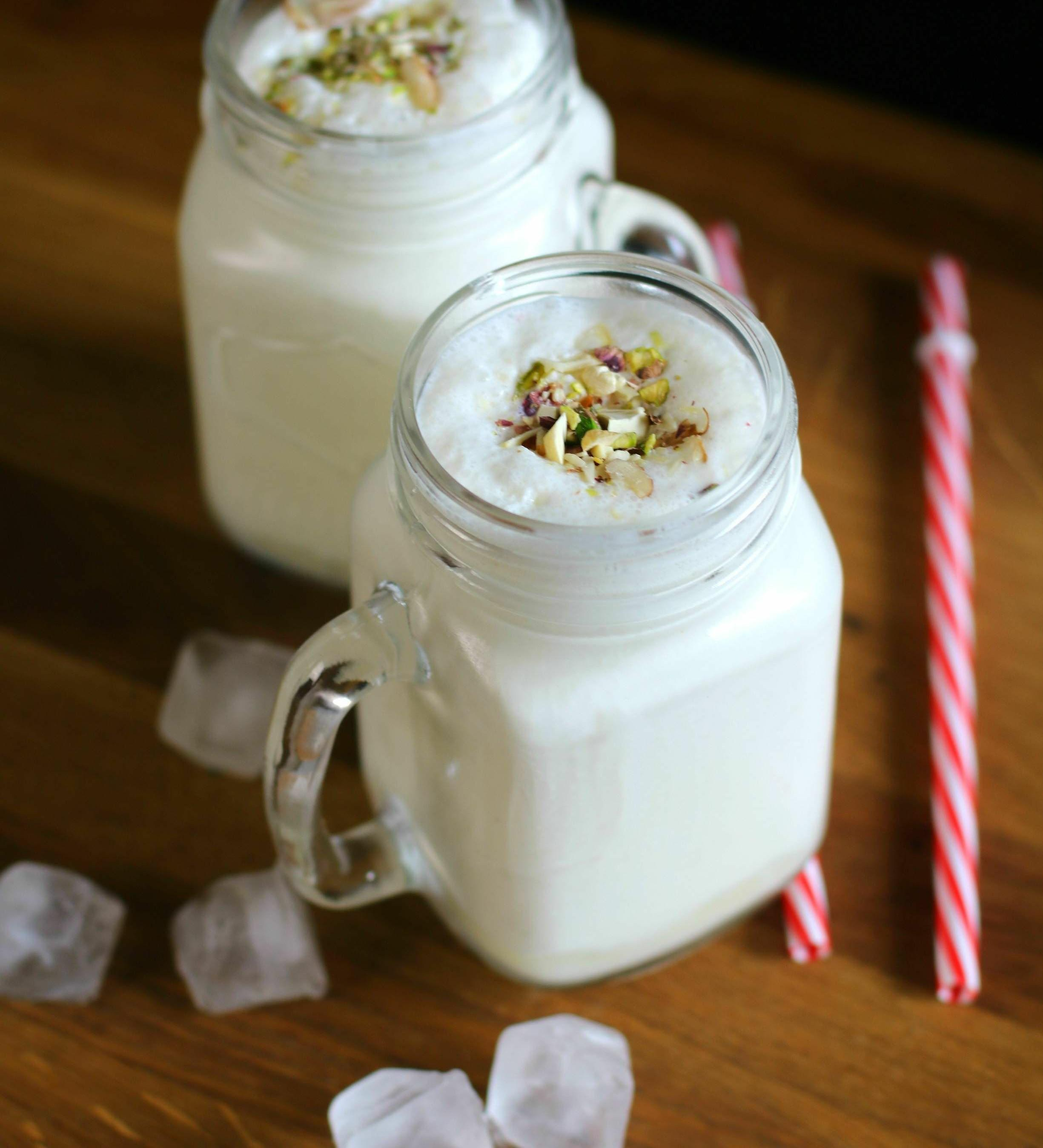Lassi: (350, 291, 842, 977), (181, 0, 613, 591)
